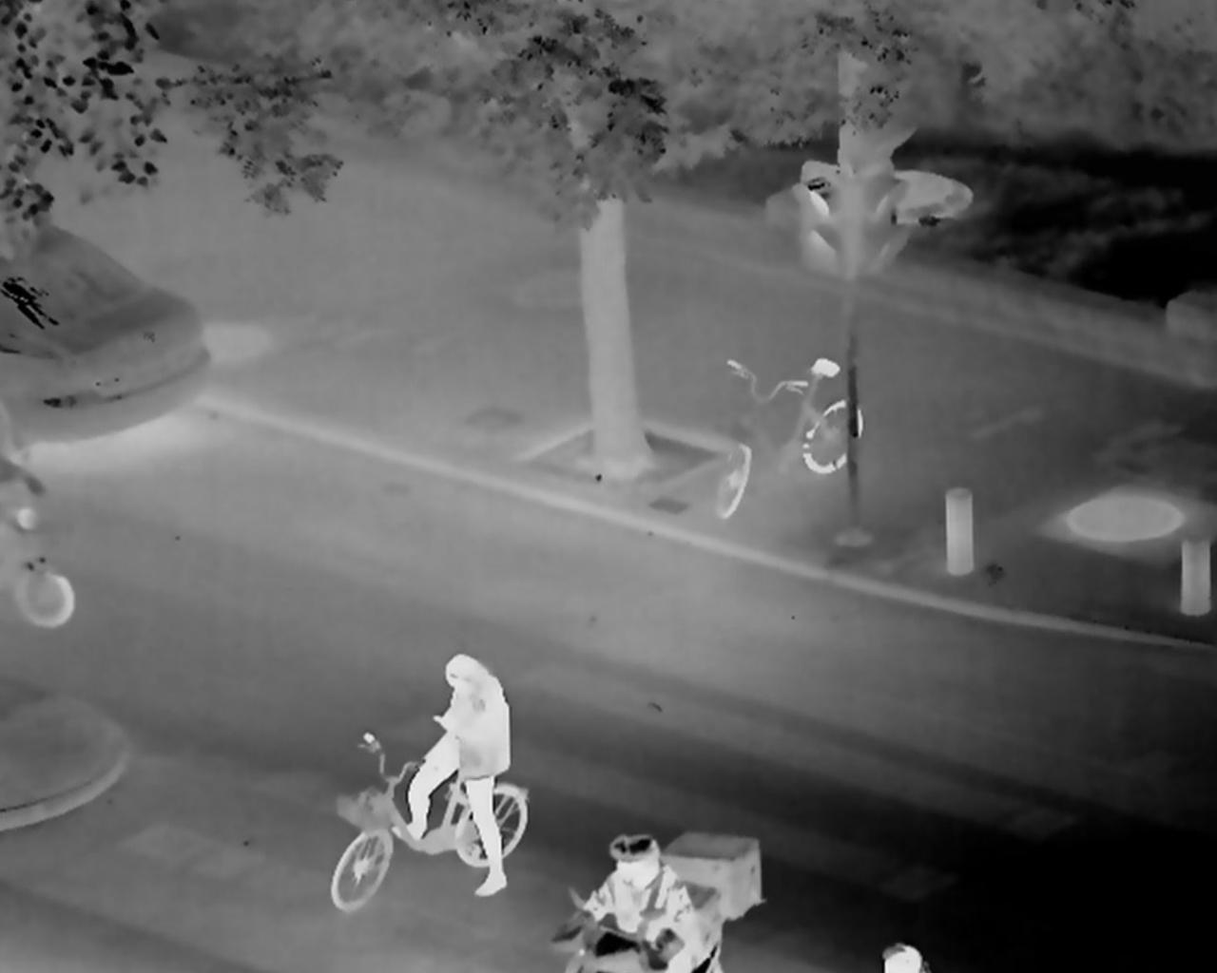person: (389, 653, 514, 899), (569, 831, 702, 973)
